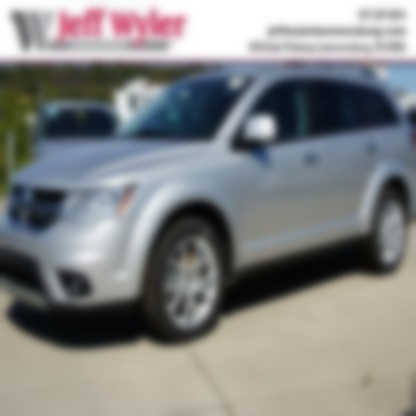Vehicle: (0, 68, 414, 346)
